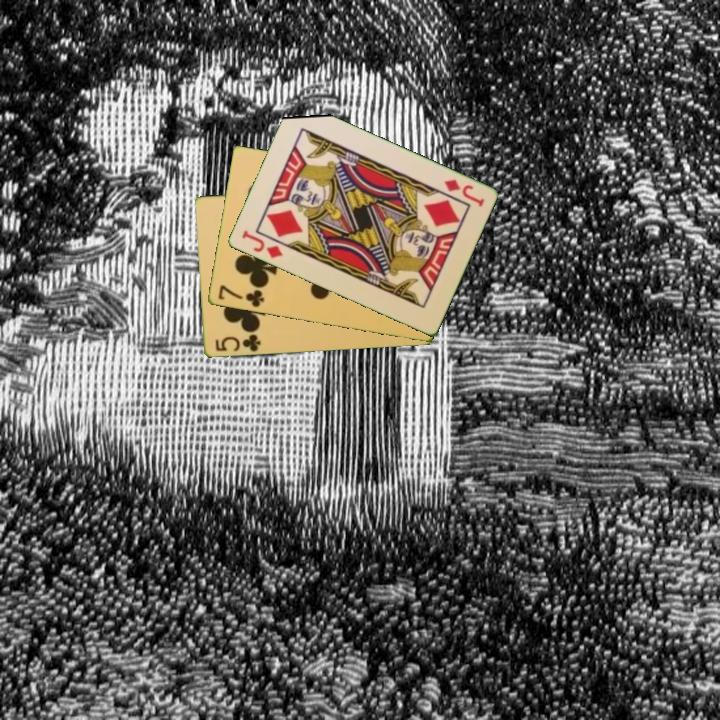5c: (211, 329, 263, 355)
7c: (214, 282, 267, 310)
Jd: (238, 227, 285, 261), (440, 176, 487, 210)
